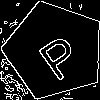P: (30, 25, 86, 83)
